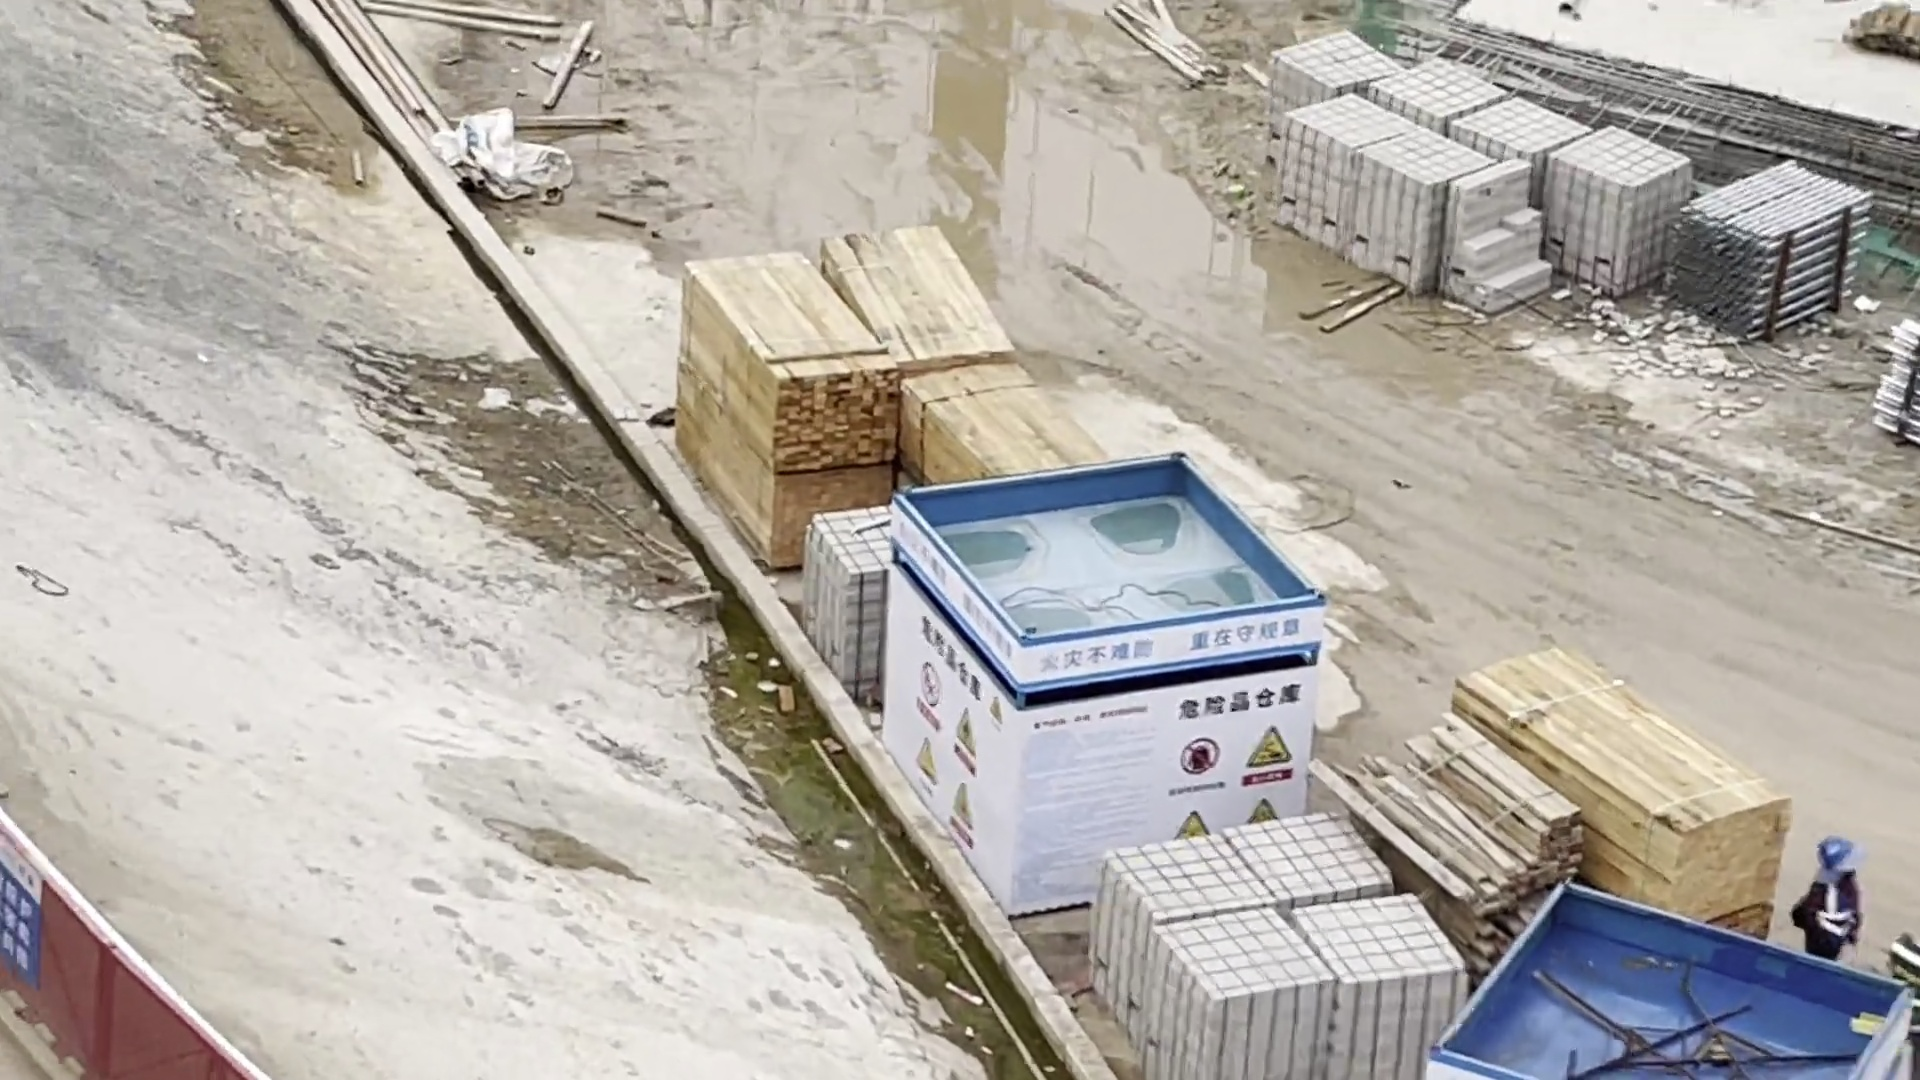brick: (1246, 30, 1699, 332), (1084, 803, 1461, 1080), (792, 496, 902, 701)
fence: (1, 770, 309, 1080)
helmet: (1813, 829, 1869, 889)
person: (1786, 818, 1877, 984)
scaffold: (1681, 153, 1872, 346), (1871, 315, 1920, 448)
slogan: (1008, 599, 1333, 931), (854, 500, 1031, 923), (1, 824, 60, 985)
vest: (1864, 926, 1920, 1032), (1802, 861, 1861, 943)
wood: (652, 199, 1133, 542), (1375, 605, 1791, 958)
